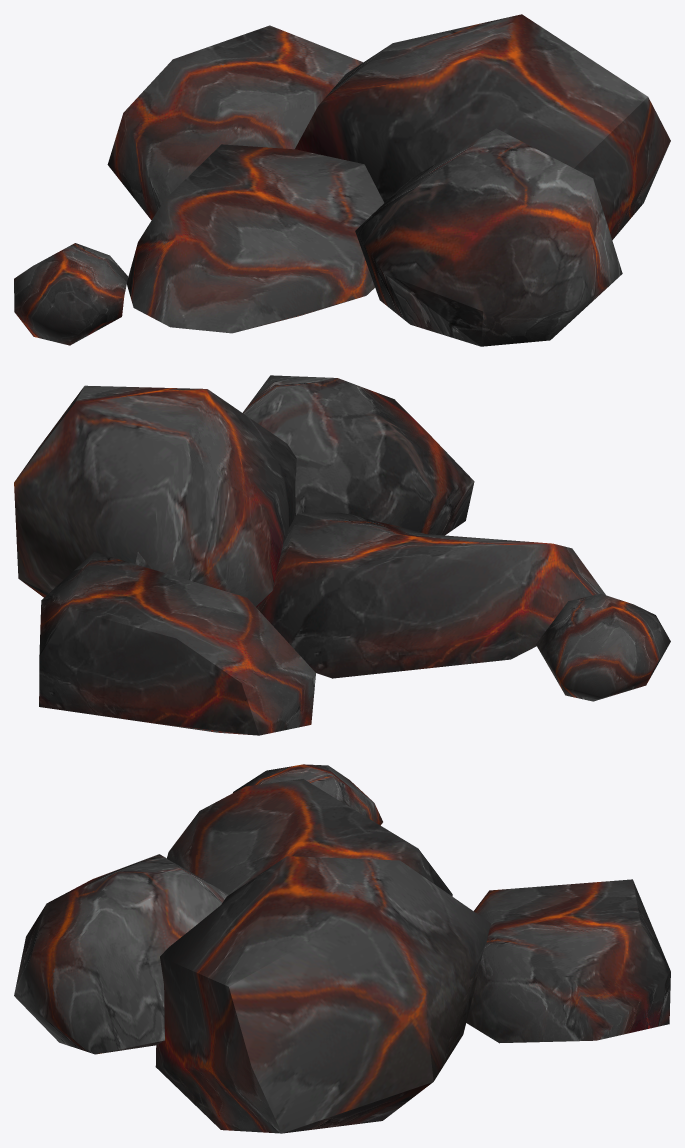
File: 10504_Stone.FBX
3 views of the same model, one above another, from view 1: azimuth 30°, elevation 25°; view 2: azimuth 150°, elevation 25°; view 3: azimuth 270°, elevation 25° (orthographic). The views are drawn at different scales.
Parts seen in each view (by area): view 1: Object958, Object960, Object962, Object959, Object961; view 2: Object958, Object962, Object959, Object960, Object961; view 3: Object958, Object959, Object960, Object962, Object961.
Part boxes in pixels (x1,y1,x2,y2): Object958: (295, 14, 670, 239); Object960: (355, 128, 622, 346); Object962: (127, 144, 384, 333); Object959: (107, 25, 362, 219); Object961: (14, 243, 128, 345); Object958: (14, 385, 296, 607); Object962: (257, 513, 605, 678); Object959: (39, 552, 315, 735); Object960: (243, 375, 474, 535); Object961: (536, 593, 670, 701); Object958: (155, 856, 490, 1133); Object959: (466, 879, 670, 1043); Object960: (14, 854, 228, 1054); Object962: (167, 779, 452, 896); Object961: (233, 764, 382, 825).
Bounding box in the file's own units: 70.22 × 25.45 × 61.02.
